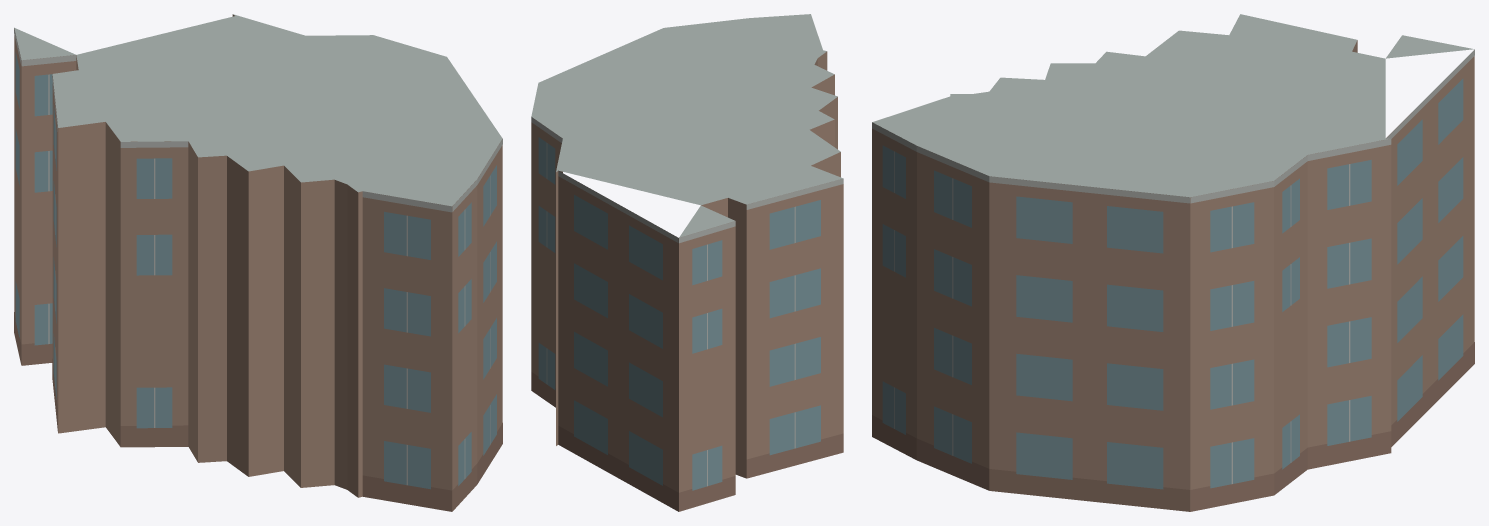
Rendered from survey-upis-33003972.glb.
3 renders of one model, left to right at view 1: azimuth 30°, elevation 25°; view 2: azimuth 150°, elevation 25°; view 3: azimuth 270°, elevation 25°, orthographic. The views are drawn at different scales.
Visible parts, largest first — view 1: survey-upis-33003972.tmp; view 2: survey-upis-33003972.tmp; view 3: survey-upis-33003972.tmp.
Boxes of the visible parts, x1,y1,x2,y2 form: survey-upis-33003972.tmp: [14, 14, 502, 511]; survey-upis-33003972.tmp: [531, 14, 843, 511]; survey-upis-33003972.tmp: [872, 14, 1474, 511].
Size of the model in its own units: 15.31 by 12.25 by 21.28.
